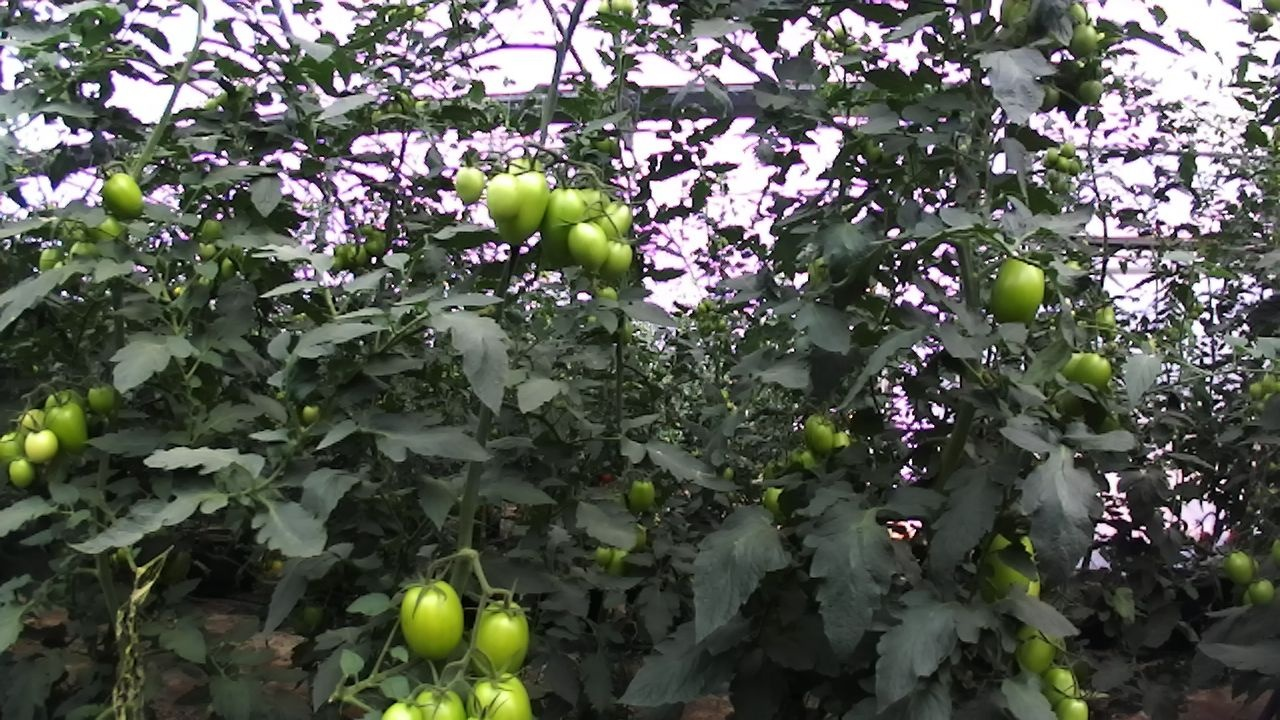tomato: (390, 571, 479, 670), (977, 235, 1057, 345), (460, 585, 541, 688), (977, 514, 1055, 612), (534, 173, 600, 287), (486, 154, 556, 257), (452, 658, 551, 720), (1061, 342, 1117, 421), (1010, 605, 1066, 683), (92, 162, 155, 225), (40, 400, 102, 462), (558, 215, 616, 277), (481, 166, 527, 230), (443, 157, 492, 213), (1216, 539, 1264, 596), (594, 189, 640, 248), (597, 231, 641, 287), (19, 423, 69, 472), (1039, 658, 1085, 711), (1062, 15, 1103, 63), (622, 471, 662, 518), (83, 376, 124, 420), (1051, 685, 1099, 720), (0, 423, 34, 471), (3, 451, 40, 495), (1242, 568, 1280, 610), (34, 238, 70, 279), (1034, 80, 1064, 118), (295, 397, 327, 430), (809, 417, 835, 457), (195, 214, 227, 246), (1074, 74, 1107, 105), (589, 539, 616, 569), (1052, 151, 1072, 173), (1059, 138, 1077, 160)
